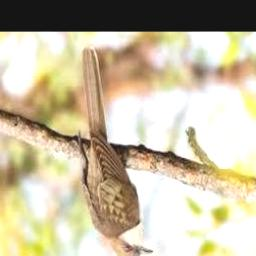Cuckoo: (80, 46, 154, 256)
